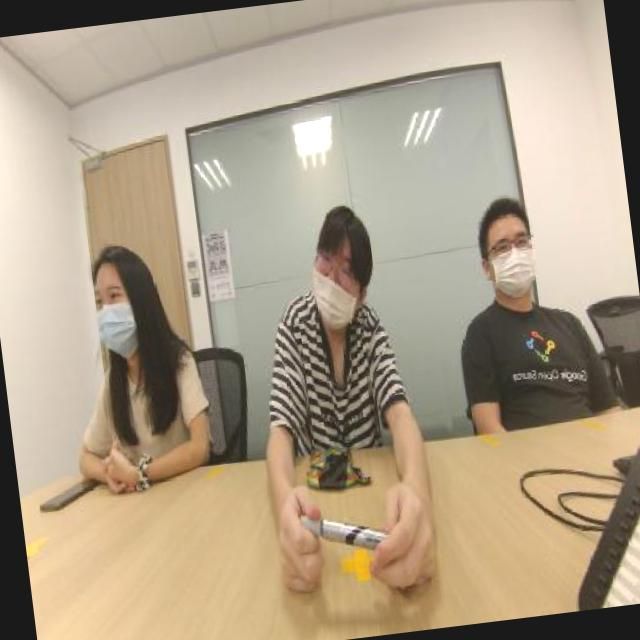Person: (237, 166, 443, 486), (408, 136, 612, 438), (65, 214, 228, 463)
